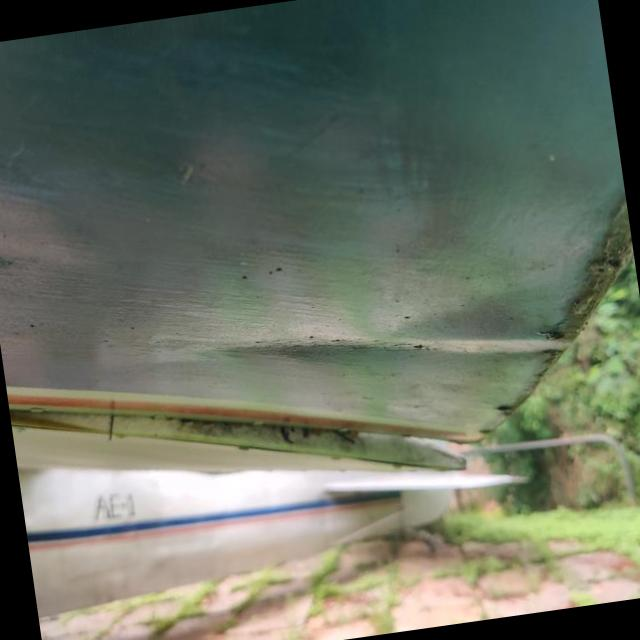Dent: (211, 281, 577, 436)
